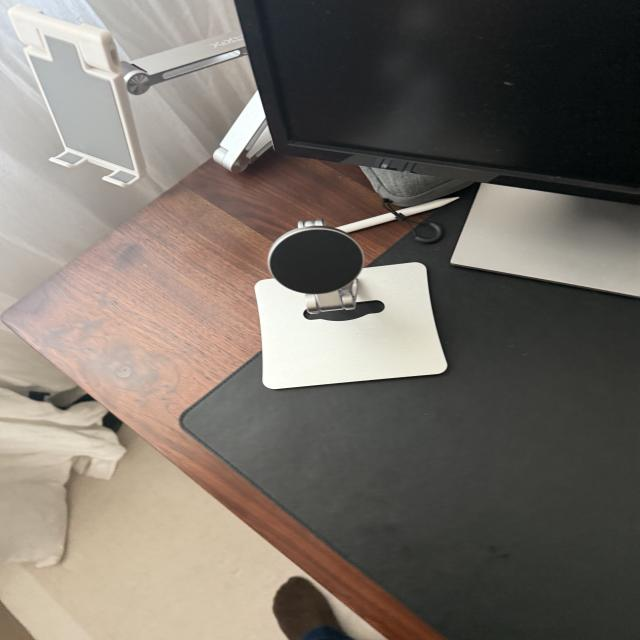phone holder: (209, 220, 453, 399)
